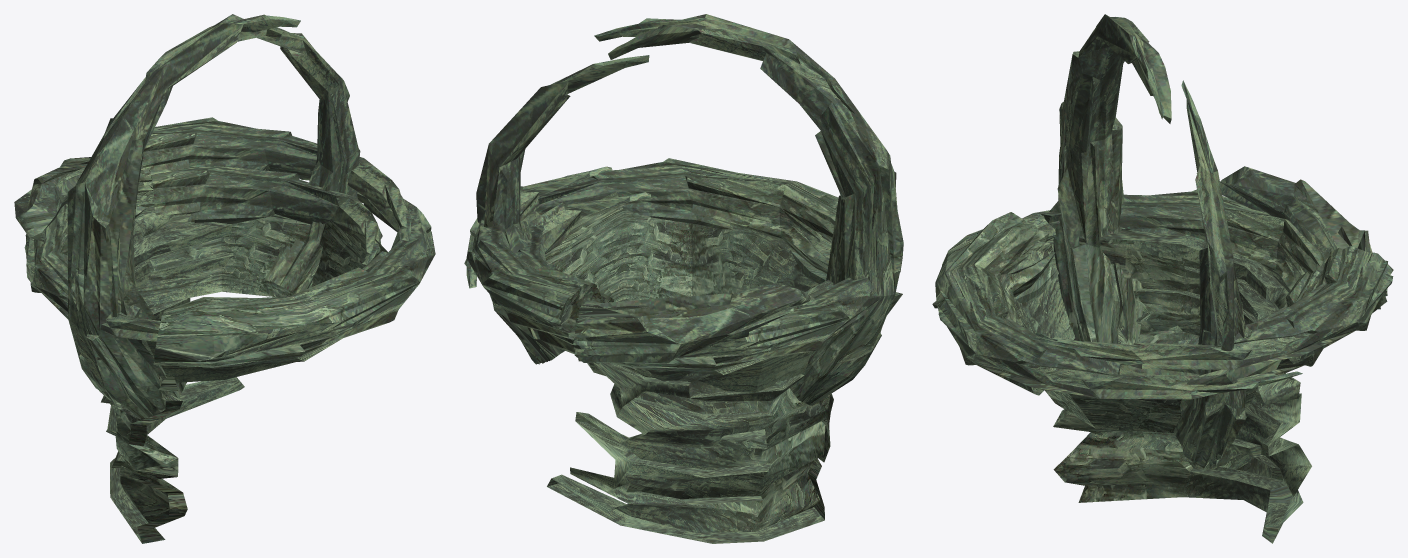
The model's file is 10104_CStone07.FBX.
The picture shows the model from 3 angles, left to right: view 1: azimuth 30°, elevation 25°; view 2: azimuth 150°, elevation 25°; view 3: azimuth 270°, elevation 25°; orthographic projection. The views are drawn at different scales.
Visible parts, largest first — view 1: Plane019; view 2: Plane019; view 3: Plane019.
Part boxes in pixels (x1,y1,x2,y2): Plane019: (14, 14, 435, 543); Plane019: (464, 14, 903, 543); Plane019: (932, 14, 1393, 543).
Bounding box in the file's own units: 803 × 1005 × 813.
